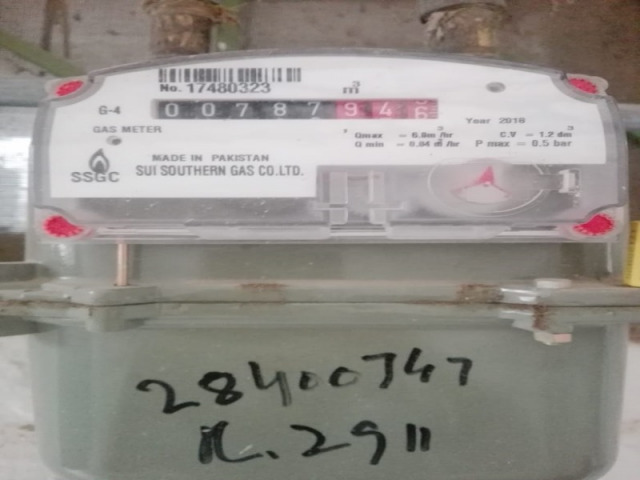ssgc: (143, 95, 447, 124)
